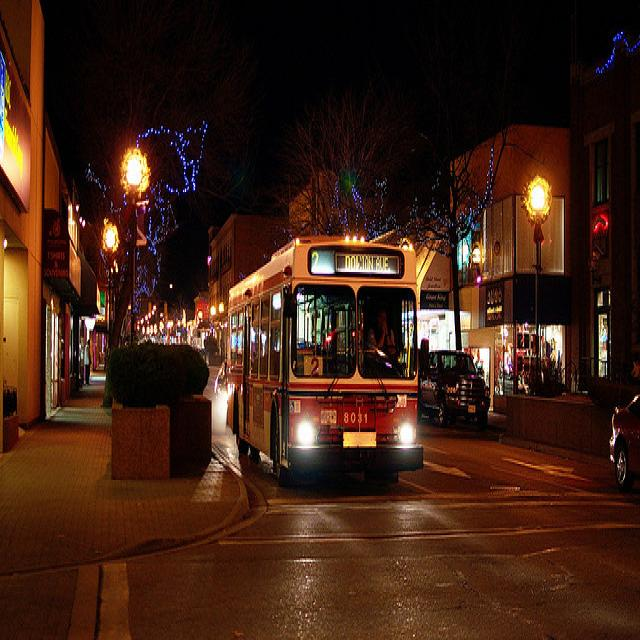Bus: (220, 249, 429, 489)
People: (370, 298, 401, 386), (74, 325, 103, 405)
car: (414, 337, 509, 446), (609, 353, 640, 502)
